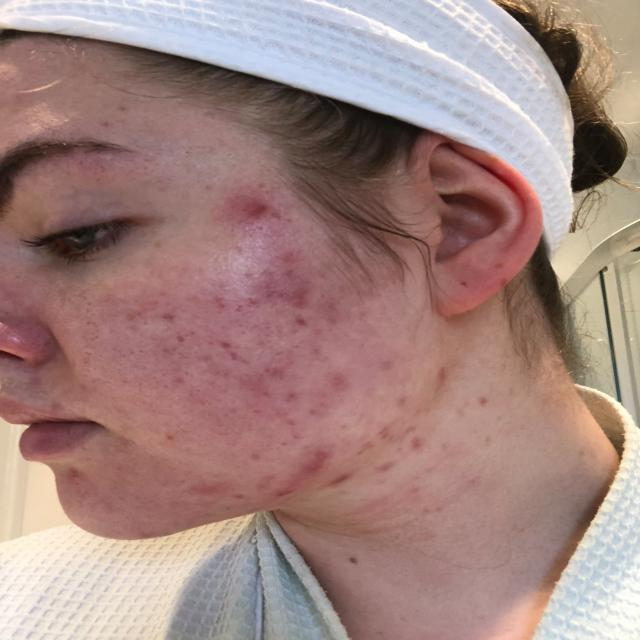Acne: (154, 334, 343, 422), (266, 238, 350, 338), (266, 442, 400, 495), (162, 243, 273, 303), (70, 271, 148, 331), (381, 413, 468, 456), (174, 465, 259, 508), (84, 94, 150, 144), (232, 181, 290, 231), (84, 360, 141, 410), (207, 282, 264, 328), (472, 380, 518, 426), (413, 357, 465, 395), (148, 304, 186, 342), (367, 350, 395, 388), (56, 464, 92, 492), (140, 433, 188, 443)
